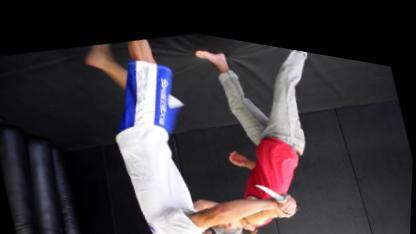knife: (250, 160, 306, 214)
